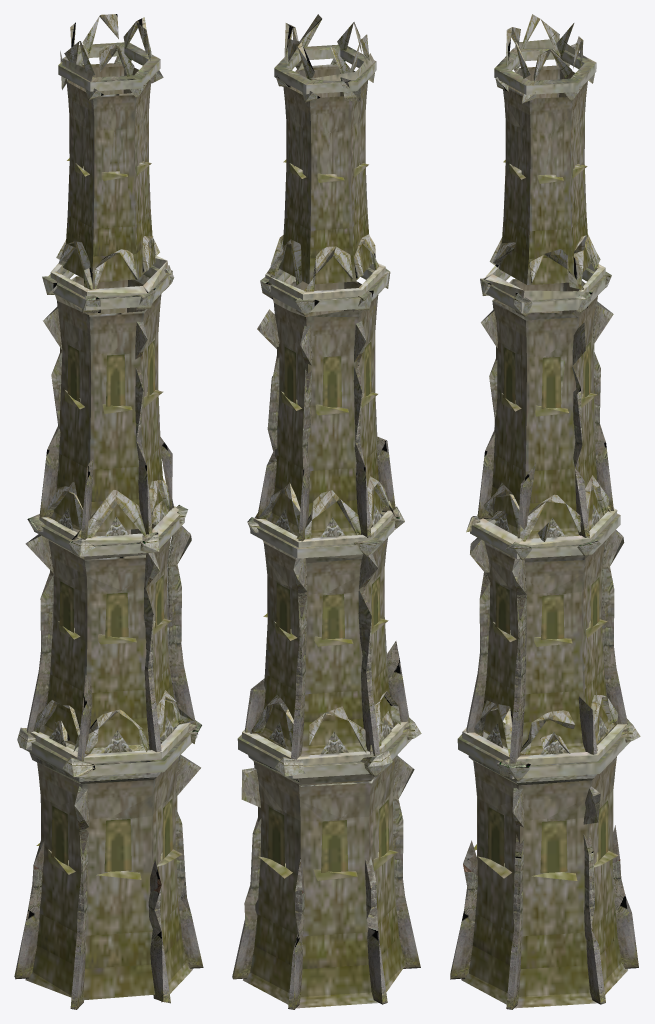
3 renders of one model, left to right at view 1: azimuth 30°, elevation 25°; view 2: azimuth 150°, elevation 25°; view 3: azimuth 270°, elevation 25°, orthographic.
Visible parts, largest first — view 1: Lobby_Merged03-3_SM_YCY; view 2: Lobby_Merged03-3_SM_YCY; view 3: Lobby_Merged03-3_SM_YCY.
Part boxes in pixels (x1,y1,x2,y2): Lobby_Merged03-3_SM_YCY: [14, 14, 203, 1009]; Lobby_Merged03-3_SM_YCY: [232, 14, 421, 1009]; Lobby_Merged03-3_SM_YCY: [450, 14, 640, 1009].
Bounding box in the file's own units: 4.27 × 24.94 × 4.56.
Materials: 1 (1 with a texture image).
